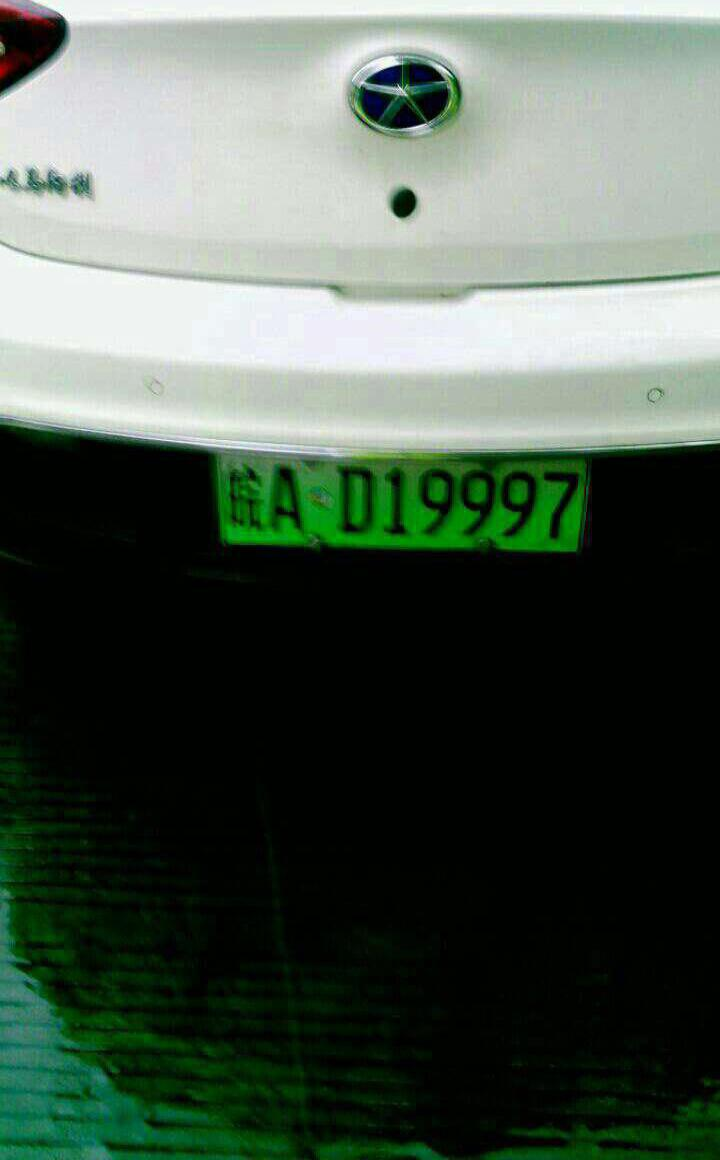car_id: (214, 451, 592, 549)
